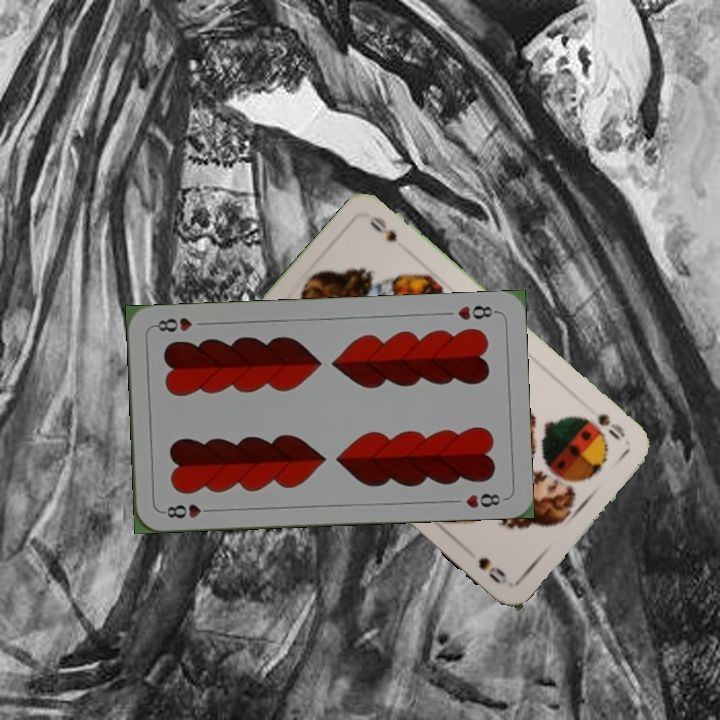H8: (158, 500, 217, 522), (454, 301, 500, 323)
SO: (593, 409, 628, 443)
